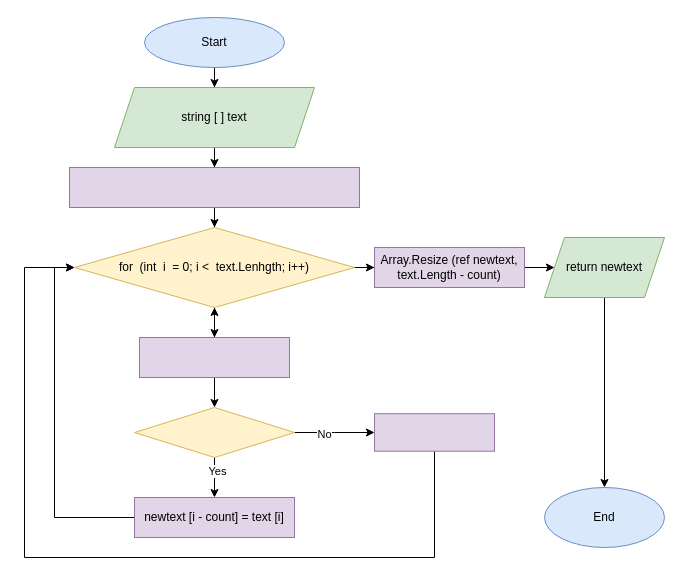
The diagram is 682 pixels wide and 583 high, and some of its shapes have lost their labels. The box of each missing label's shape, as (x1, y1, x2, y2) in pixels:
count++: (374, 413, 494, 451)
element.Length <= 3?: (134, 406, 294, 458)
string [ ] newtext = new string [text.Length ] int count = 0: (68, 166, 360, 208)
string element = text [i]: (138, 336, 290, 378)
